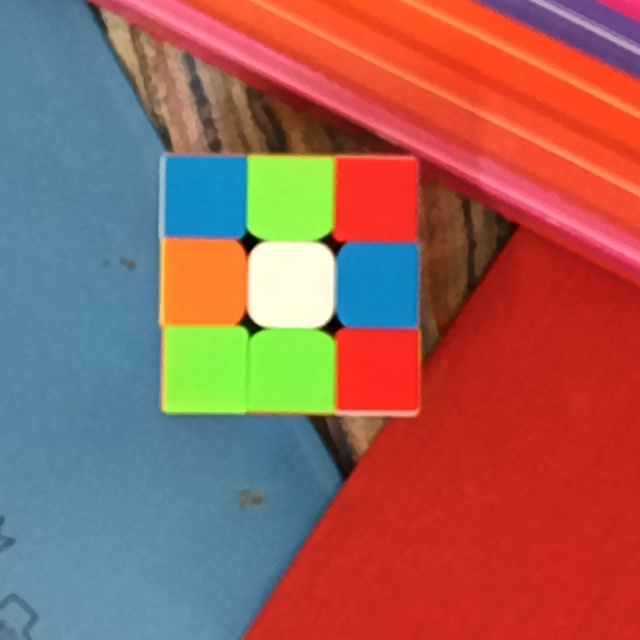tile: (170, 332, 243, 408), (167, 242, 238, 319), (167, 158, 240, 232), (253, 160, 326, 232), (343, 334, 415, 407), (345, 250, 415, 325), (254, 338, 329, 408), (342, 160, 411, 236), (257, 251, 324, 319)
